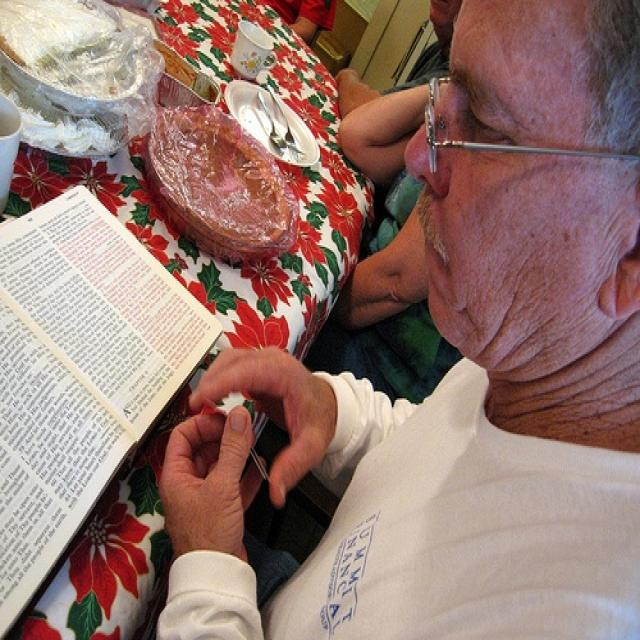diningtable: (1, 5, 395, 640)
person: (158, 3, 640, 639)
